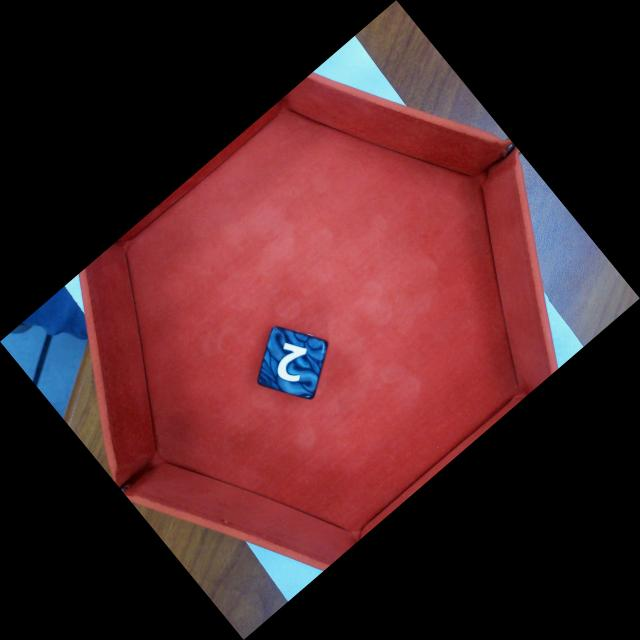dice: (260, 331, 326, 399)
